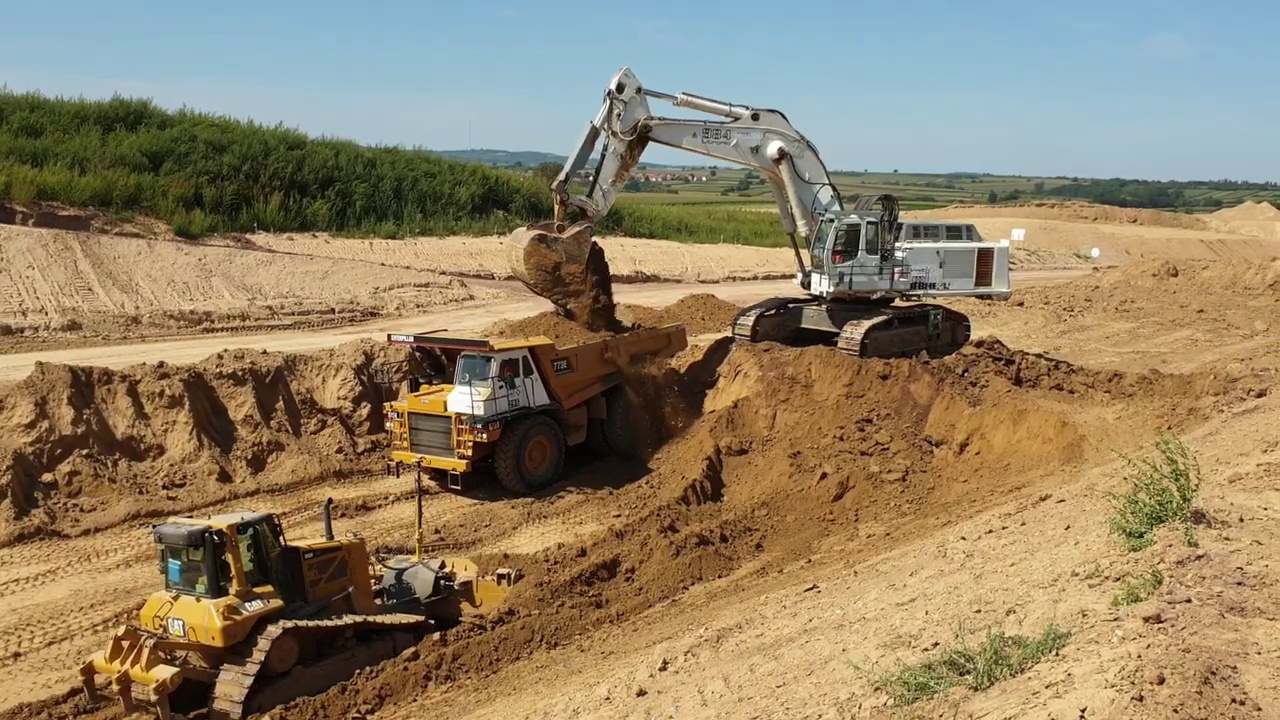bulldozer: (76, 458, 523, 720)
excavator: (506, 64, 1018, 361)
truck: (380, 320, 692, 498)
